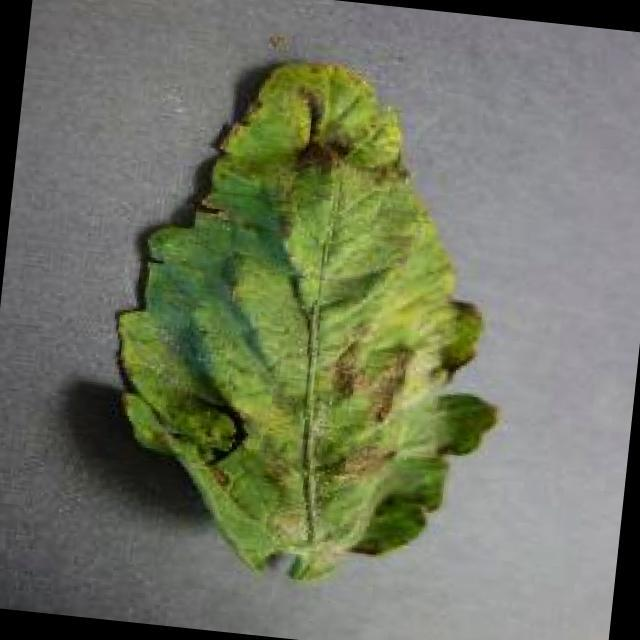Tomato bacterial spot leaf: (71, 26, 545, 612)
